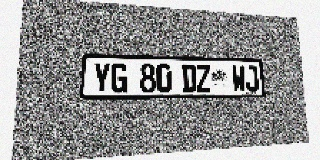0: (156, 64, 171, 93)
8: (140, 63, 156, 93)
D: (181, 64, 197, 92)
G: (110, 63, 127, 93)
J: (245, 65, 259, 92)
W: (232, 65, 246, 92)
Y: (93, 62, 110, 93)
Z: (196, 64, 211, 92)
